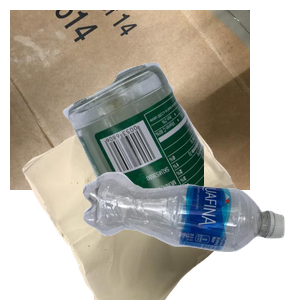cardboard: (10, 10, 250, 190)
glass: (60, 60, 300, 240)
plastic: (80, 169, 300, 300)
trash: (20, 120, 260, 300)
